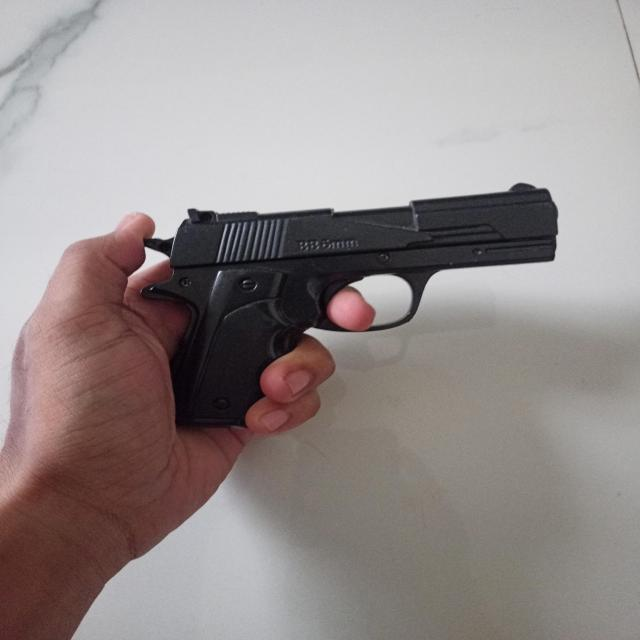handgun: (144, 181, 562, 430)
